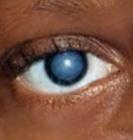eye: (45, 49, 88, 87)
